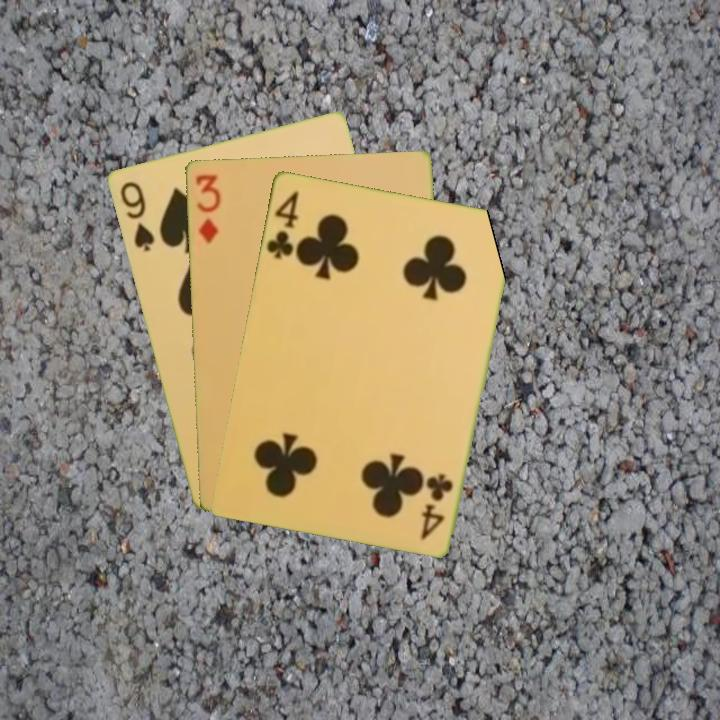3d: (192, 170, 223, 246)
4c: (262, 187, 301, 261), (417, 469, 456, 543)
9s: (116, 177, 157, 254)
